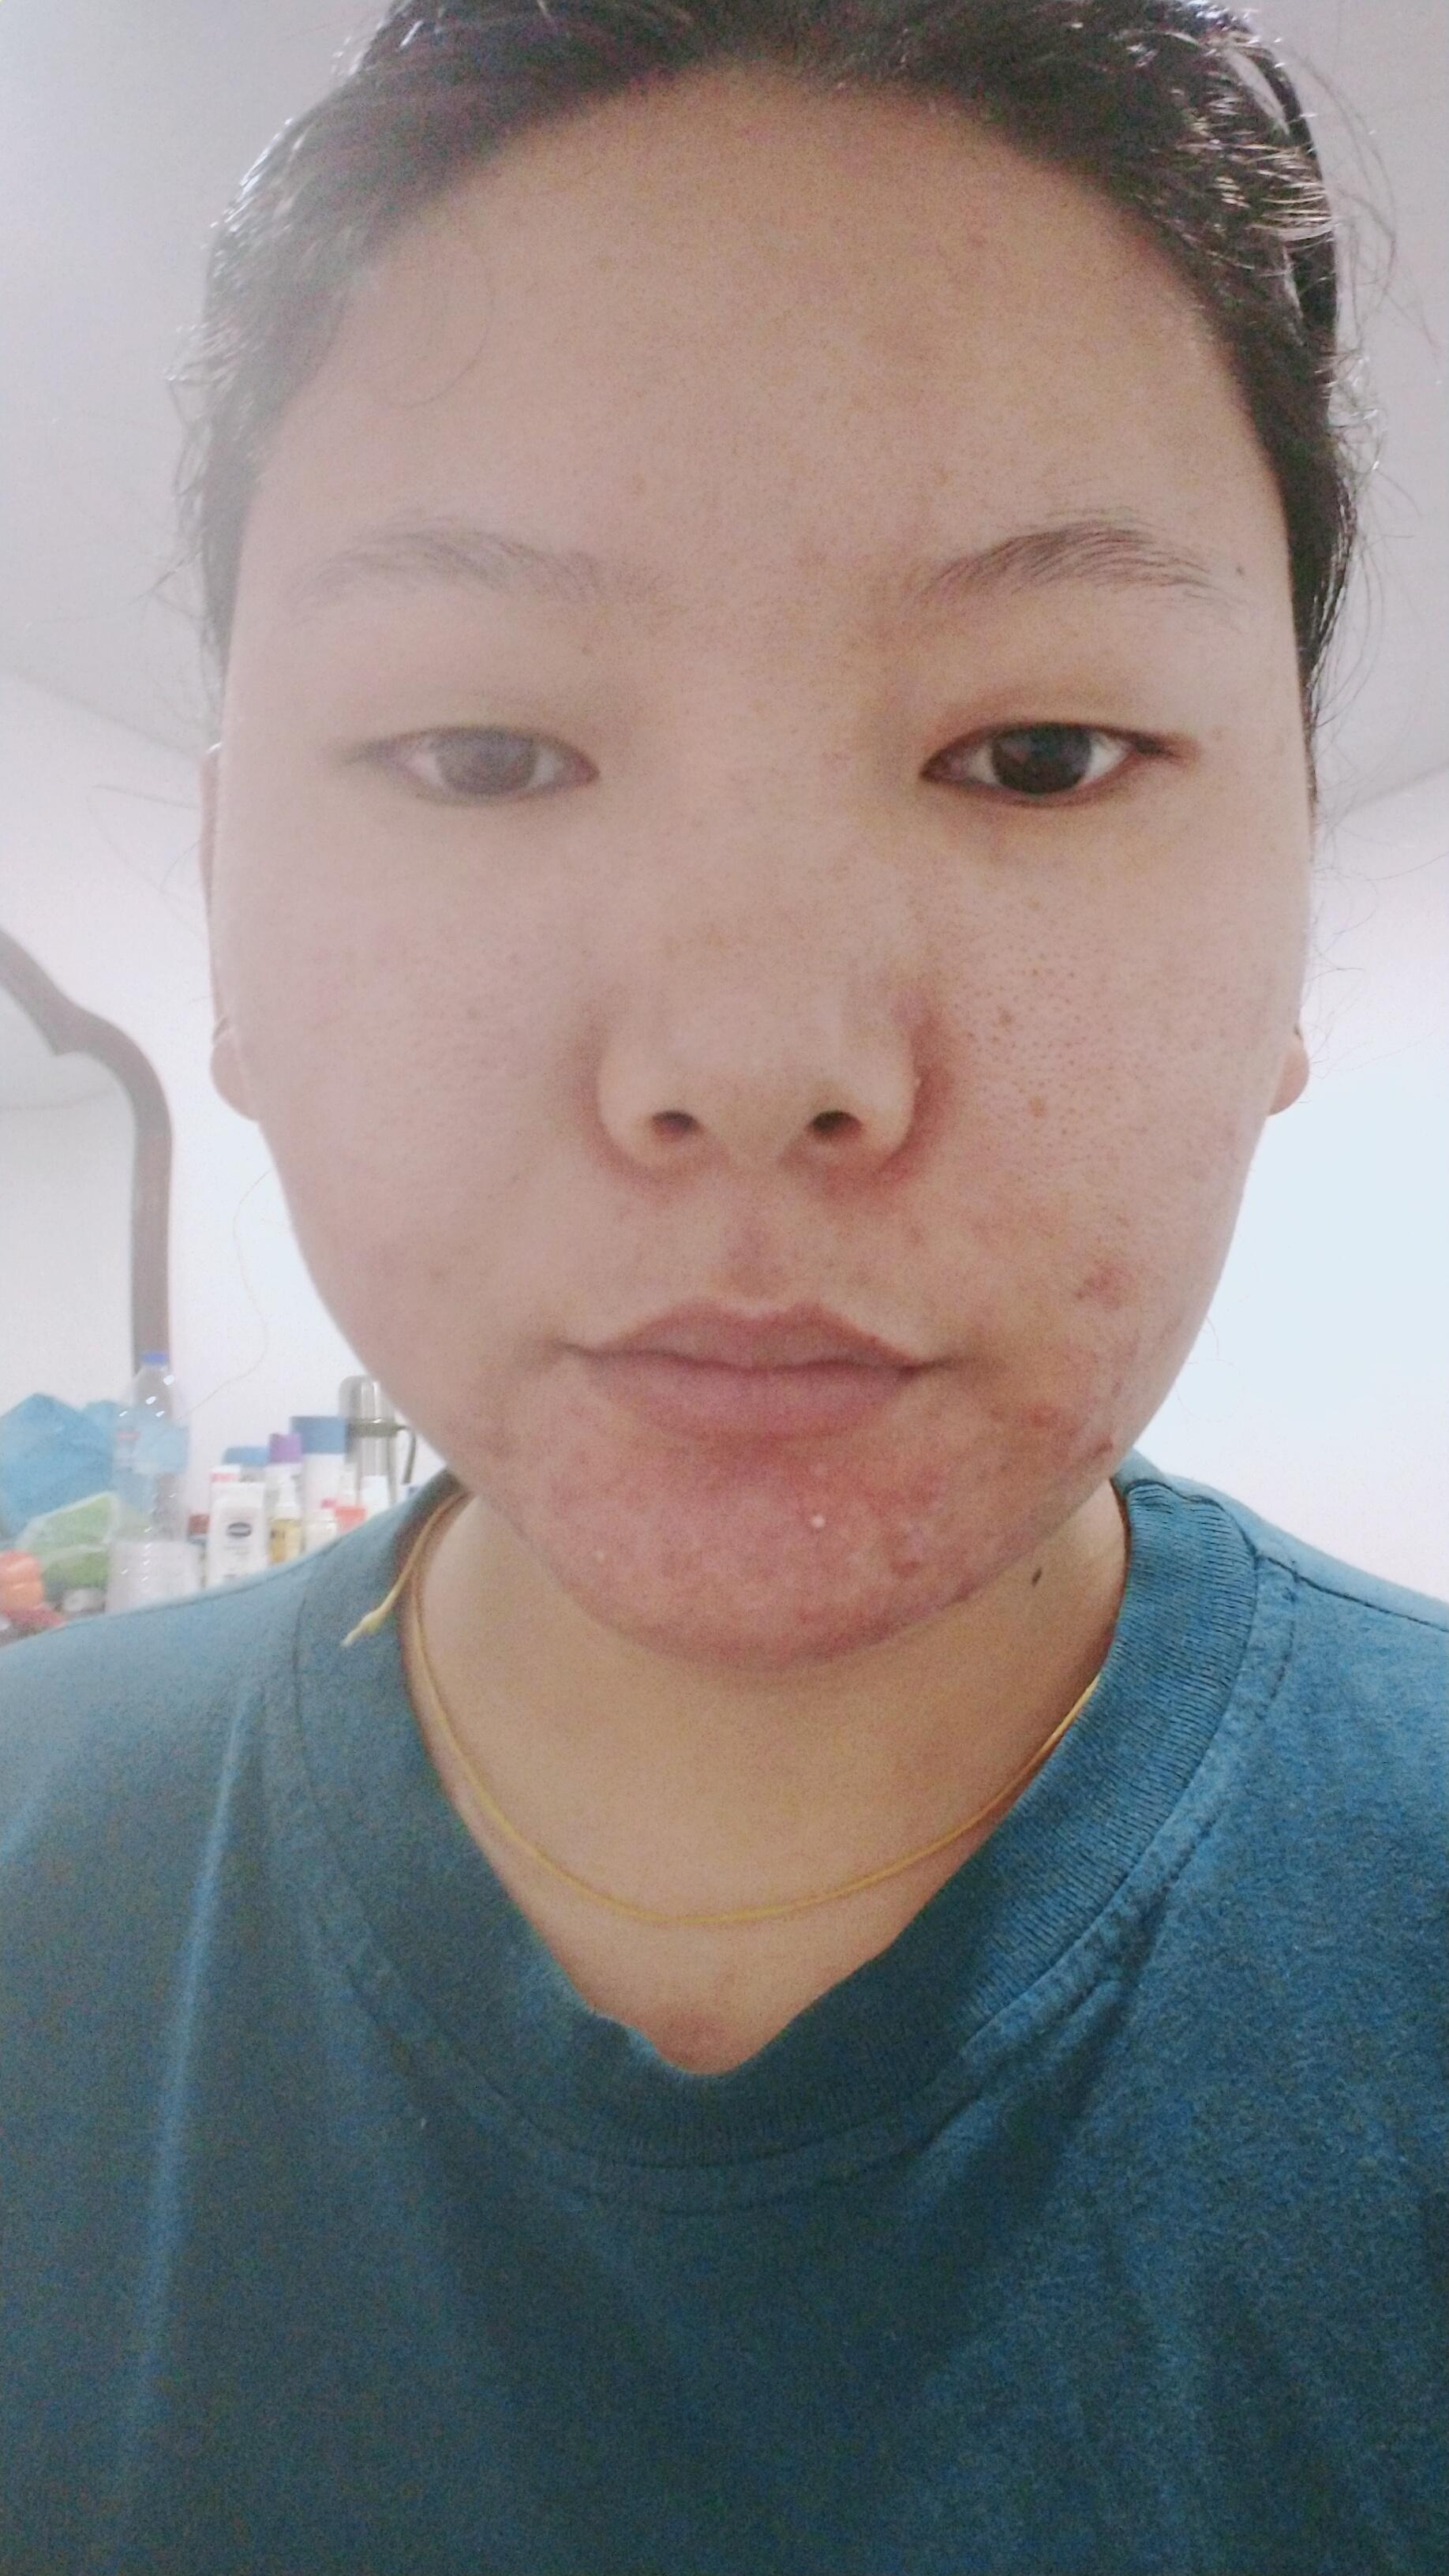Acne: (1060, 1258, 1150, 1307), (885, 1504, 931, 1594), (472, 1421, 541, 1476), (366, 925, 414, 991), (745, 1514, 780, 1594), (614, 460, 662, 511), (414, 1253, 462, 1304), (1079, 1419, 1132, 1465), (662, 1534, 711, 1580), (786, 1453, 853, 1486), (1028, 1392, 1070, 1438), (952, 223, 998, 264), (789, 1587, 830, 1629), (798, 1504, 837, 1543), (893, 1212, 927, 1256), (908, 1047, 932, 1100), (584, 1539, 628, 1568), (568, 1438, 602, 1472), (1106, 1355, 1136, 1392), (803, 538, 832, 577), (954, 1562, 977, 1606), (1120, 1323, 1148, 1357), (837, 1265, 867, 1295), (984, 1391, 1007, 1410)
Englarged-Pores: (952, 959, 1120, 1207), (393, 934, 552, 1120)
